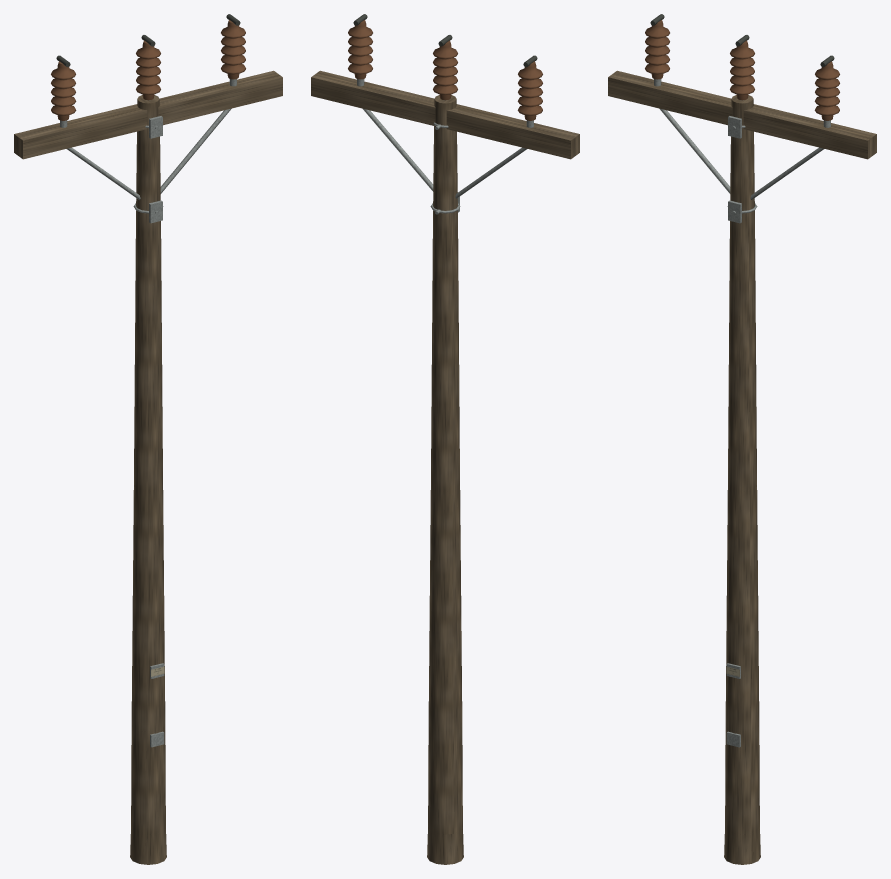
File: SM_SubstationSite_Pole_A_LOD1.fbx
3 renders of one model, left to right at view 1: azimuth 30°, elevation 25°; view 2: azimuth 150°, elevation 25°; view 3: azimuth 330°, elevation 25°, orthographic.
Visible parts, largest first — view 1: SM_SubstationSite_Pole_A_LOD1; view 2: SM_SubstationSite_Pole_A_LOD1; view 3: SM_SubstationSite_Pole_A_LOD1.
Part boxes in pixels (bbox=[...]): SM_SubstationSite_Pole_A_LOD1: bbox=[14, 14, 282, 864]; SM_SubstationSite_Pole_A_LOD1: bbox=[311, 14, 579, 864]; SM_SubstationSite_Pole_A_LOD1: bbox=[608, 14, 876, 864].
Bounding box in the file's own units: 3.18 × 0.394 × 9.58.
